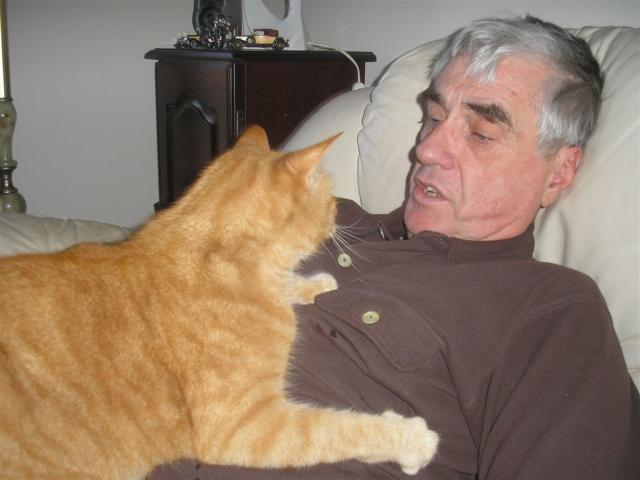Cat: (0, 113, 440, 479)
